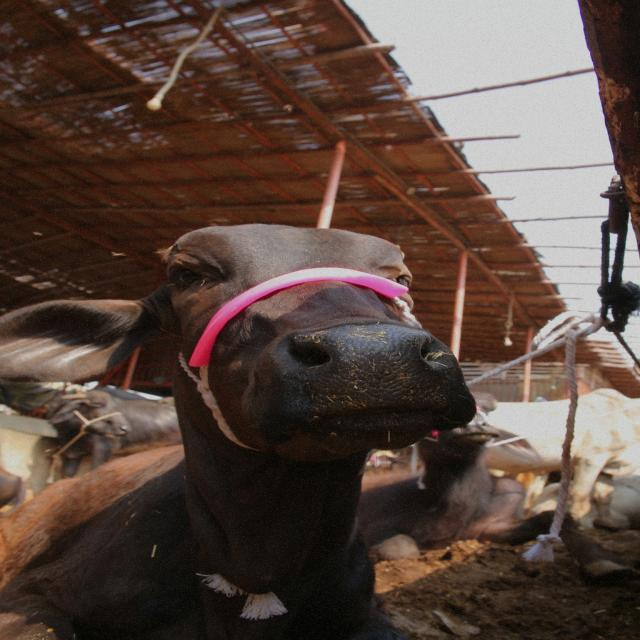muzzles: (276, 322, 468, 422)
